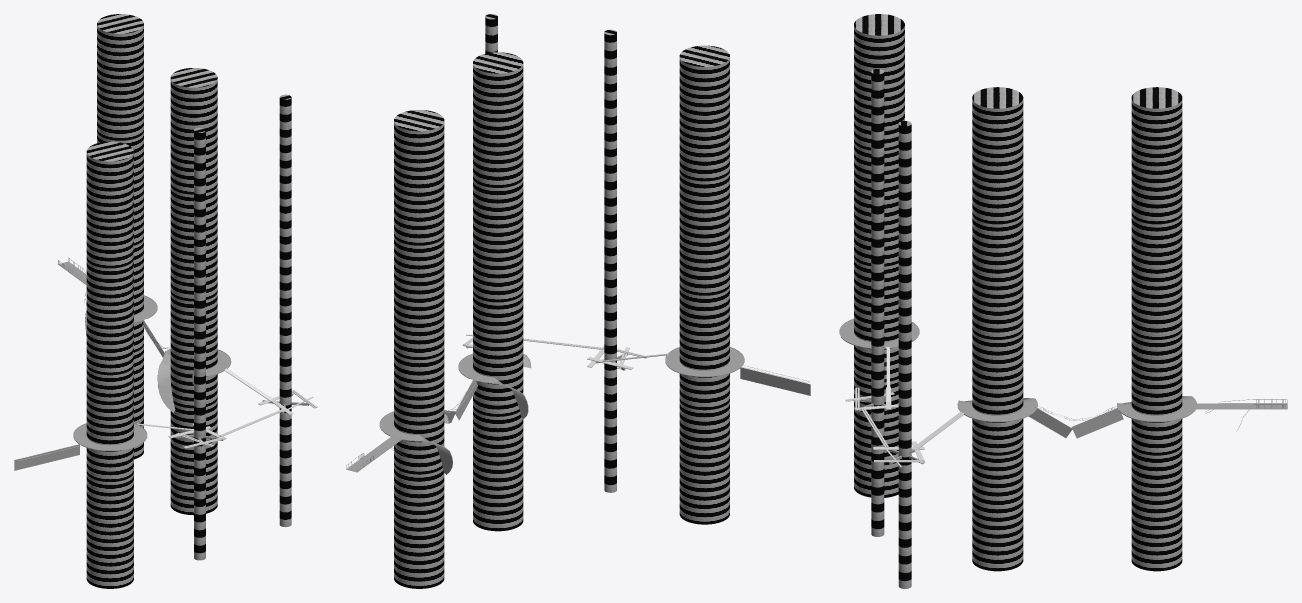
The model's file is SM_2PillarsInBigRoom.fbx.
3 views of the same model, side by side, from view 1: azimuth 30°, elevation 25°; view 2: azimuth 150°, elevation 25°; view 3: azimuth 270°, elevation 25° (orthographic). The views are drawn at different scales.
Visible parts, largest first — view 1: pCylinder9, pCylinder4, pCylinder12, pCylinder10, pCylinder5, pCylinder11, pCylinder6, pCylinder7, pCylinder8, pCylinder17, pCylinder18, pCylinder20 (+11 smaller); view 2: pCylinder9, pCylinder4, pCylinder5, pCylinder6, pCylinder12, pCylinder10, pCylinder3, pCylinder1, pCylinder8, pCylinder11, pCylinder2, pCylinder7 (+8 smaller); view 3: pCylinder4, pCylinder5, pCylinder8, pCylinder1, pCylinder3, pCylinder6, pCylinder7, pCylinder2, pCylinder9, pCylinder10, pCylinder11, pCylinder12 (+13 smaller).
Boxes of the visible parts, <box> form: pCylinder9: <box>86,141,133,268</box>; pCylinder4: <box>97,14,143,140</box>; pCylinder12: <box>86,473,133,588</box>; pCylinder10: <box>86,260,133,375</box>; pCylinder5: <box>170,68,217,194</box>; pCylinder11: <box>86,366,133,481</box>; pCylinder6: <box>170,186,217,301</box>; pCylinder7: <box>170,293,217,408</box>; pCylinder8: <box>170,400,217,515</box>; pCylinder17: <box>279,94,291,206</box>; pCylinder18: <box>279,204,291,313</box>; pCylinder20: <box>279,418,291,527</box>; pCylinder9: <box>679,45,729,181</box>; pCylinder4: <box>394,110,444,245</box>; pCylinder5: <box>473,52,523,187</box>; pCylinder6: <box>473,179,523,302</box>; pCylinder12: <box>679,401,729,524</box>; pCylinder10: <box>679,172,729,295</box>; pCylinder3: <box>394,236,444,359</box>; pCylinder1: <box>394,465,444,588</box>; pCylinder8: <box>473,408,523,531</box>; pCylinder11: <box>679,287,729,410</box>; pCylinder2: <box>394,351,444,474</box>; pCylinder7: <box>473,293,523,416</box>; pCylinder4: <box>1131,87,1182,224</box>; pCylinder5: <box>972,87,1023,224</box>; pCylinder8: <box>972,446,1023,571</box>; pCylinder1: <box>1131,447,1182,571</box>; pCylinder3: <box>1131,215,1182,339</box>; pCylinder6: <box>972,215,1023,339</box>; pCylinder7: <box>972,330,1023,455</box>; pCylinder2: <box>1131,331,1182,455</box>; pCylinder9: <box>854,14,904,150</box>; pCylinder10: <box>854,142,898,266</box>; pCylinder11: <box>854,258,898,382</box>; pCylinder12: <box>854,373,898,497</box>.
Size of what is drawn, in the model's own units: 6082 by 8000 by 7027.
